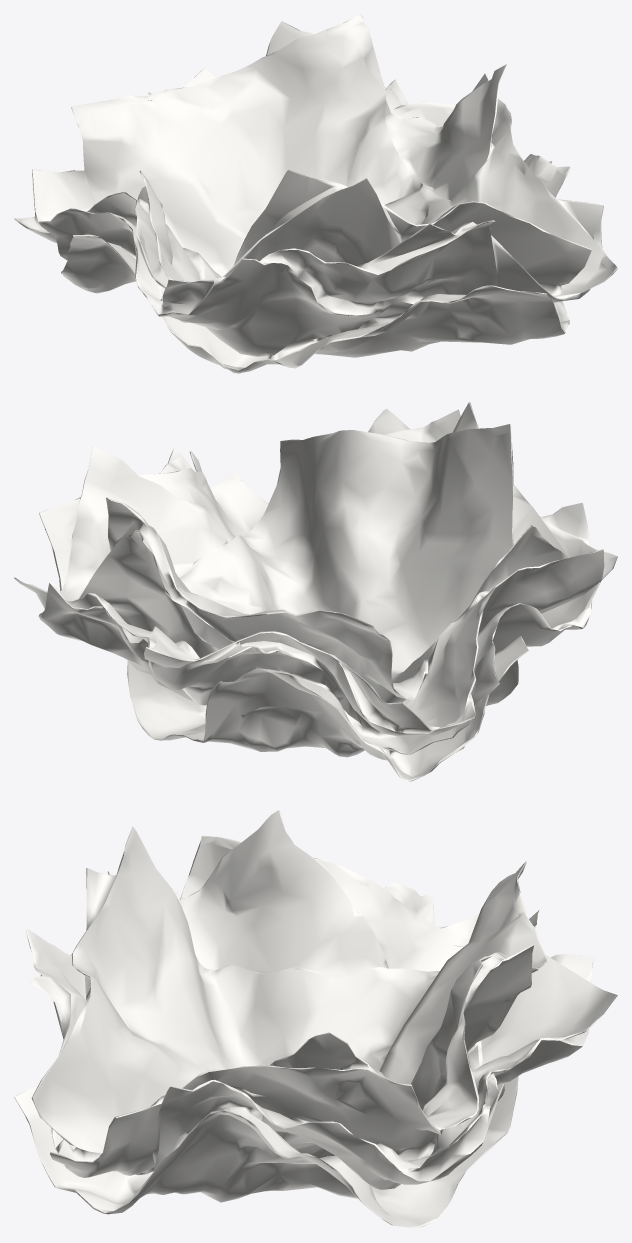
Rendered from krusning_klosz_lampy_wiszacej_50259921.glb.
The picture shows the model from 3 angles, top to bottom: view 1: azimuth 30°, elevation 25°; view 2: azimuth 150°, elevation 25°; view 3: azimuth 270°, elevation 25°; orthographic projection. The views are drawn at different scales.
Visible parts, largest first — view 1: krusning_klosz_lampy_wiszacej_50259921; view 2: krusning_klosz_lampy_wiszacej_50259921; view 3: krusning_klosz_lampy_wiszacej_50259921.
Boxes of the visible parts, box(x1,y1,x2,y2) form: krusning_klosz_lampy_wiszacej_50259921: box(14, 14, 617, 373); krusning_klosz_lampy_wiszacej_50259921: box(14, 402, 617, 781); krusning_klosz_lampy_wiszacej_50259921: box(14, 810, 617, 1228).
Bounding box in the file's own units: 0.7713 × 0.4178 × 0.7968.
2 materials, 2 textured.
